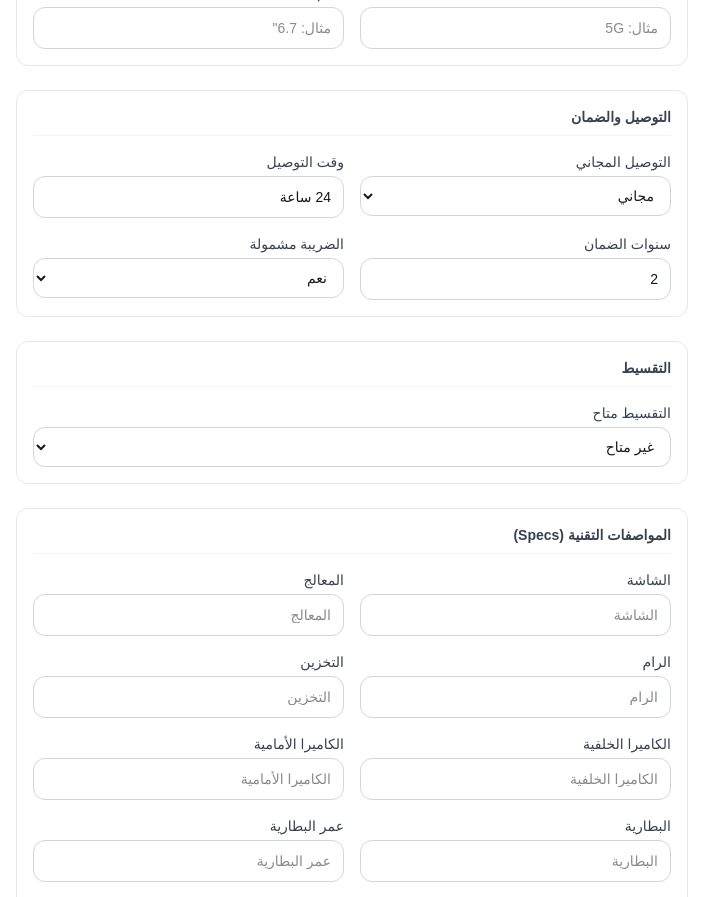
صفحة إضافة منتج جديد — الفيلدات › حقول التقسيط تظهر عند تفعيله
(page scrolled)
Select "متاح" in the dropdown below "التقسيط متاح" at [352, 447], box [33,427,671,467]
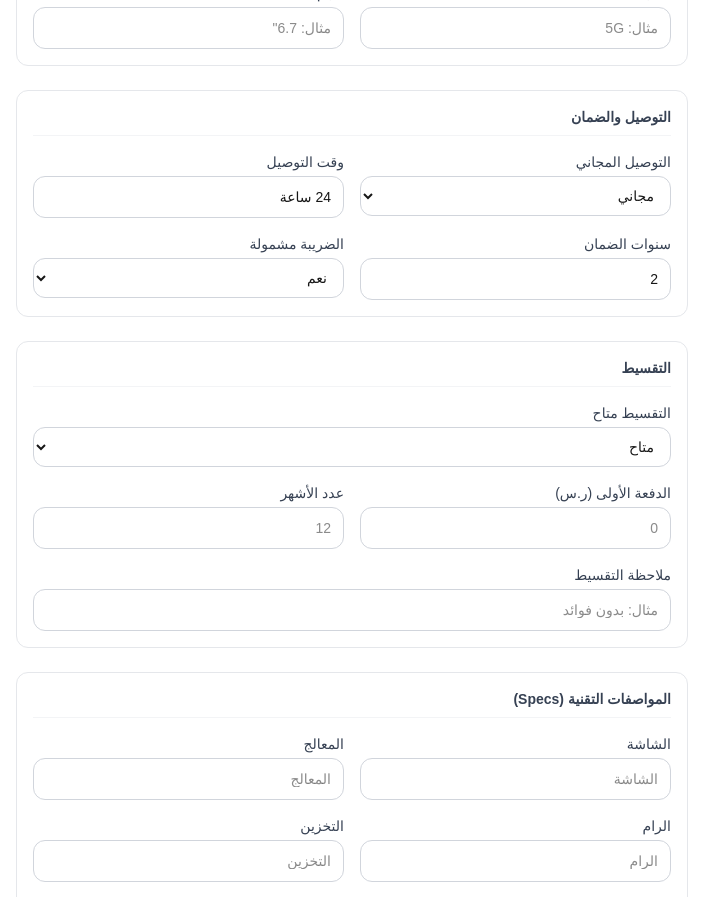
Now the number field with placeholder "12" is shown, box [33,507,344,549]
Now the field with placeholder "مثال: بدون فوائد" is shown, box [33,589,671,631]
